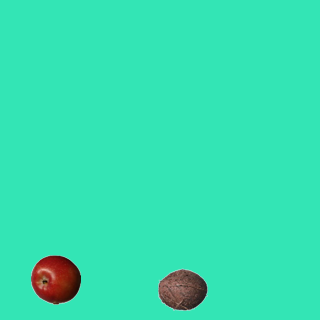Apple Braeburn: (30, 254, 80, 304)
Cocos: (157, 264, 207, 314)
